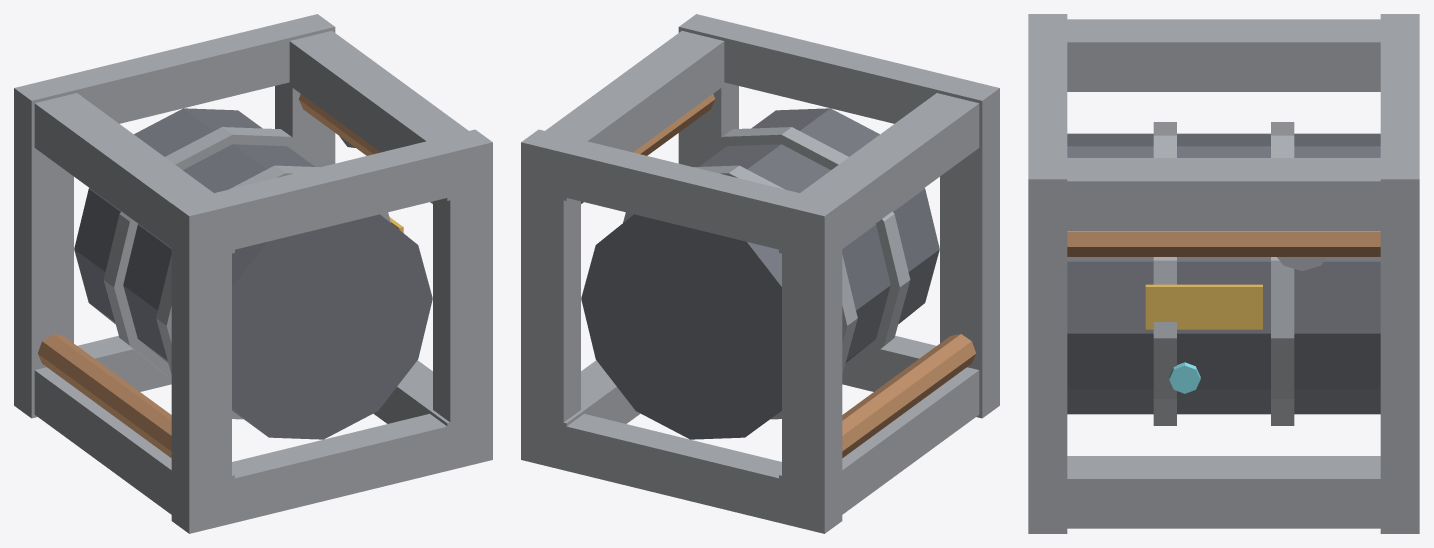
The model's file is hull_tank.glb.
The picture shows the model from 3 angles, left to right: view 1: azimuth 30°, elevation 25°; view 2: azimuth 150°, elevation 25°; view 3: azimuth 270°, elevation 25°; orthographic projection. The views are drawn at different scales.
Size of the model in its own units: 1 by 1 by 1.
